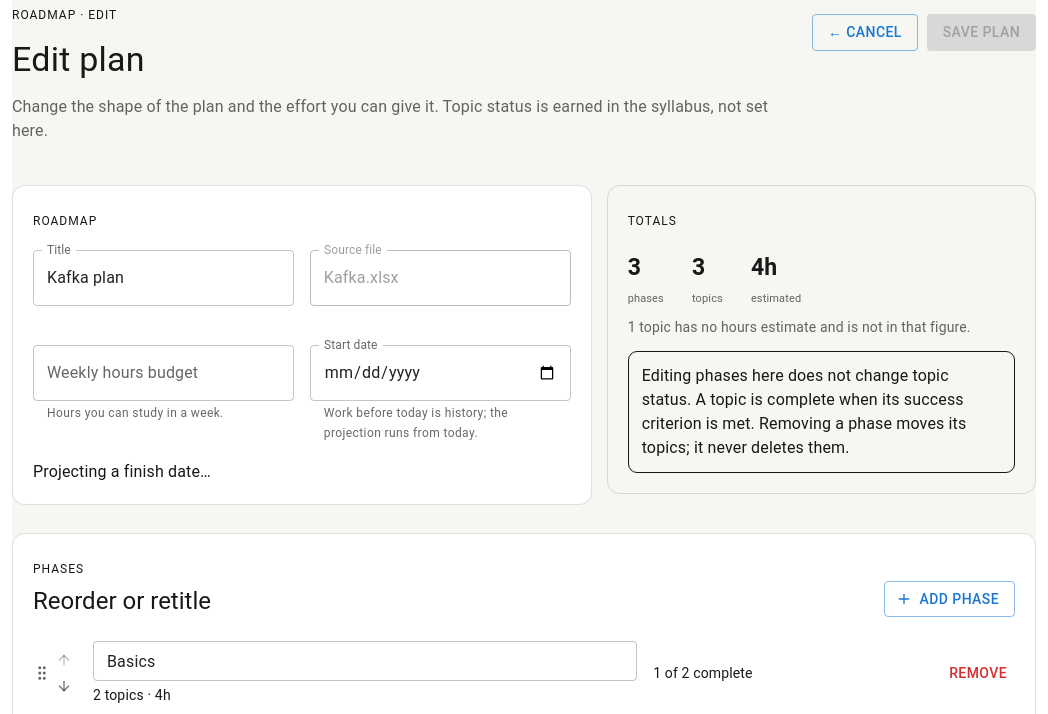
Test: RoadmapEditorPage › says when the plan changed elsewhere, and offers to reload
This screenshot has width=1048, height=714.
Type " v2" into the field labelled "Title" at point(163, 278), box [33, 250, 294, 306]
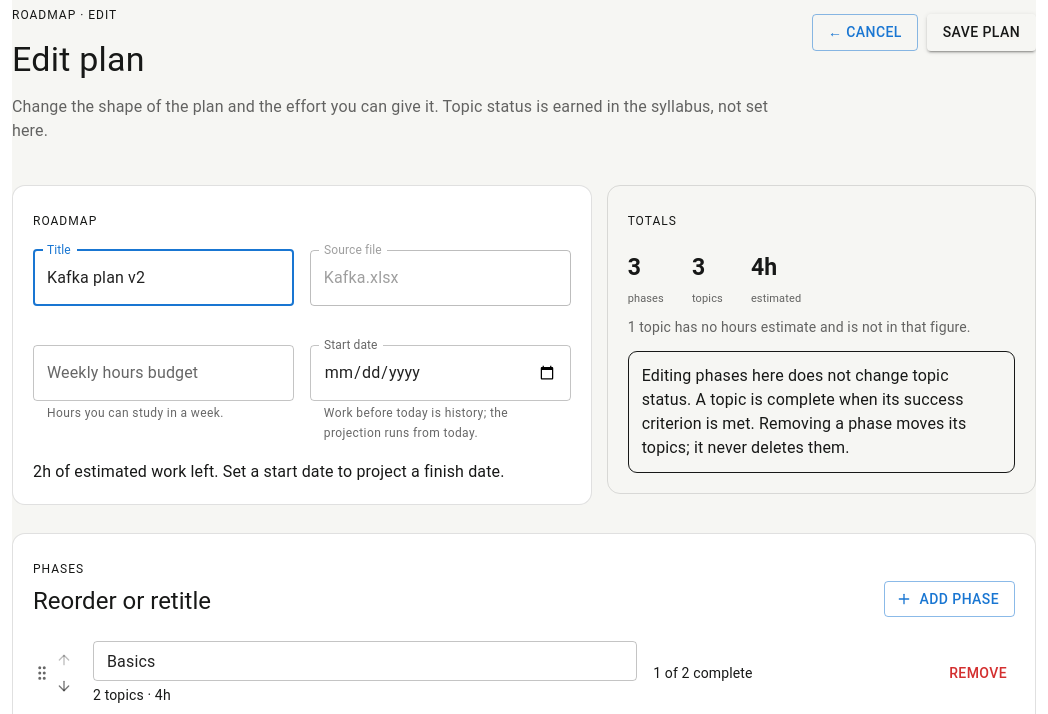
Click the button "Save plan" at point(981, 32), box [927, 14, 1036, 50]
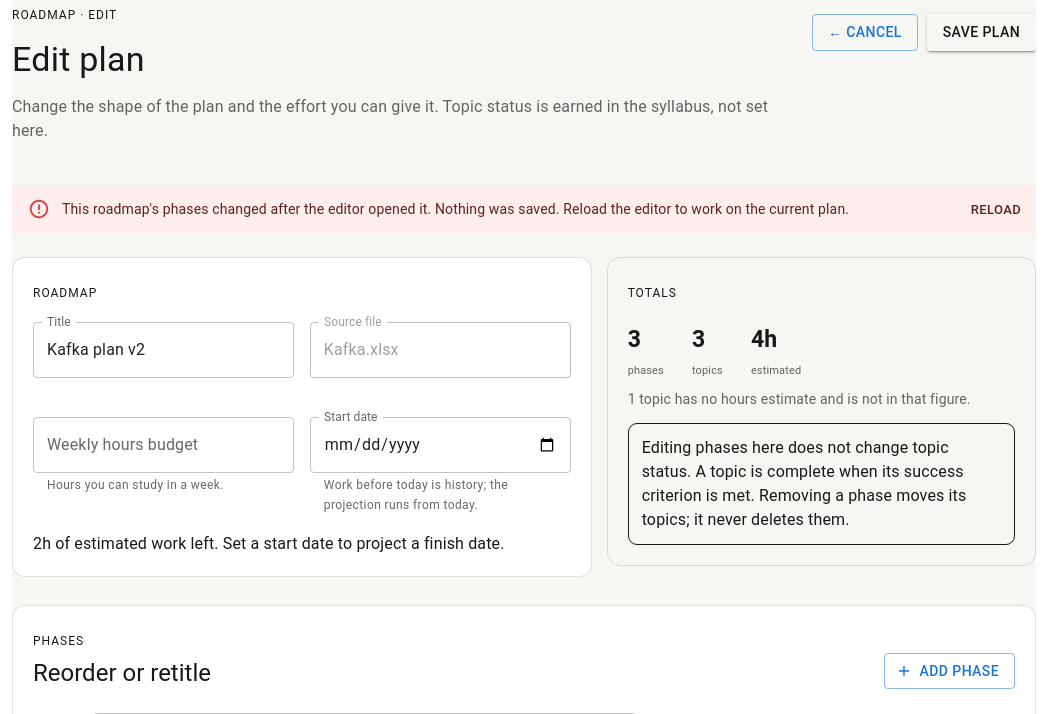
Expected: the text "phases changed after the editor opened it" is shown, [62, 201, 849, 217]
Click the button "Reload" at point(996, 210), box [964, 195, 1028, 226]
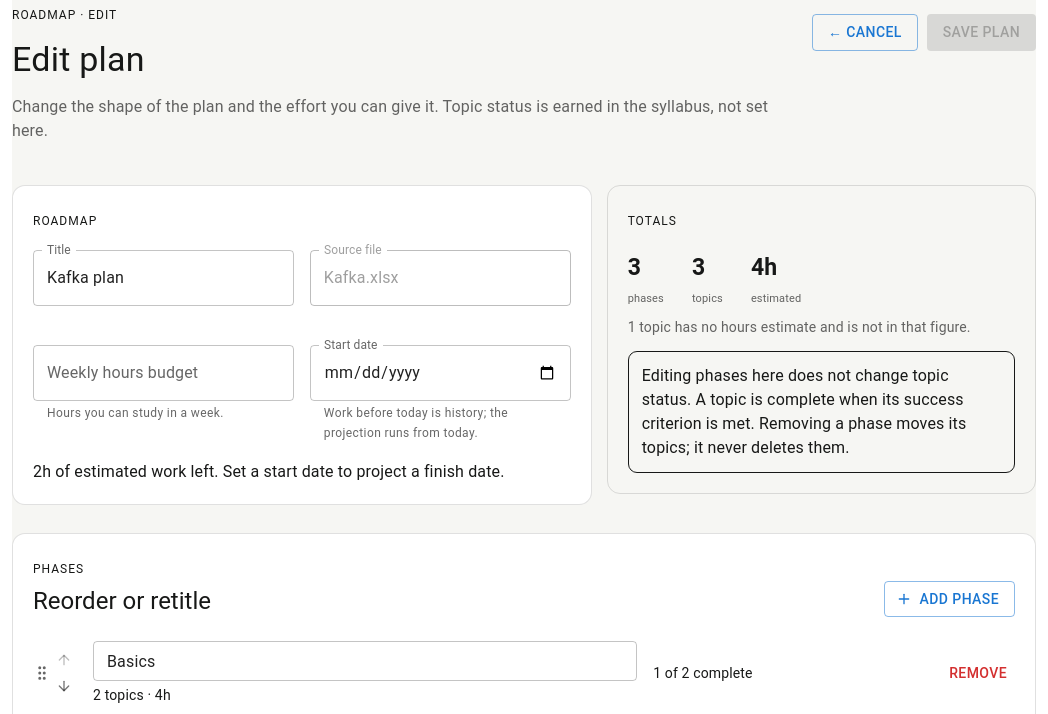
Expected: the field labelled "Title" holds "Kafka plan", [33, 250, 294, 306]
